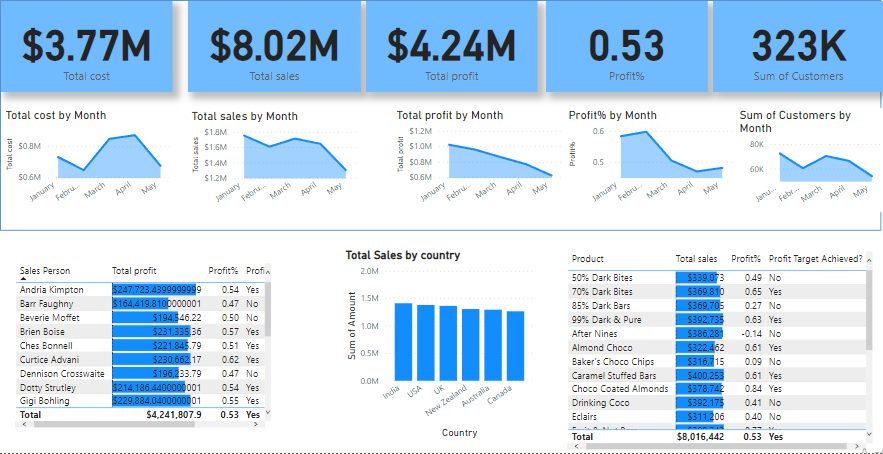

The page's visual inventory and layout, read from the dashboard file:
{"tool":"powerbi","page":{"name":"Page 1","canvas":[1280,720],"ordinal":0},"visuals":[{"type":"columnChart","title":" Total Sales by country","fields":{"Category":["locations.Geo"],"Y":["sales.Amount"]},"box":[499.6,425.3,280.8,279.4],"z":0},{"type":"shape","box":[6.5,67.2,1269.3,332],"z":500,"group":"g1"},{"type":"card","fields":{"Values":["sales.Total cost"]},"box":[8.4,68.9,246.9,131],"z":1000,"group":"g1"},{"type":"tableEx","fields":{"Values":["sales.Sales Person","sales.Total profit","sales.Profit%","sales.Profit Target Achieved?"]},"box":[24.8,441.8,378.5,246.4],"z":1000},{"type":"card","fields":{"Values":["sales.Total sales"]},"box":[277.1,68.9,248.6,131],"z":2000,"group":"g1"},{"type":"tableEx","fields":{"Values":["sales.Product","sales.Total sales","sales.Profit%","sales.Profit Target Achieved?"]},"box":[818.9,425.3,448.7,294.5],"z":2000},{"type":"card","fields":{"Values":["sales.Total profit"]},"box":[534.1,68.9,246.9,131],"z":3000,"group":"g1"},{"type":"textbox","box":[1101,32,167,150],"z":3000},{"type":"qnaVisual","title":"Sales Dashboard Analysis","box":[0,0,414.9,50.4],"z":4000},{"type":"card","fields":{"Values":["sales.Profit%"]},"box":[793.3,69.3,233.3,130.7],"z":4000,"group":"g1"},{"type":"slicer","fields":{"Values":["people.Team"]},"box":[937.3,0,330.3,68.8],"z":5000},{"type":"areaChart","fields":{"Y":["sales.Total cost"],"Category":["sales.Date.Variation.Date Hierarchy.Month"]},"box":[9.6,223,247.7,150],"z":5000,"group":"g1"},{"type":"group","id":"g1","title":"Group 1","box":[6.5,67.2,1273.5,332],"z":6000},{"type":"areaChart","fields":{"Category":["sales.Date.Variation.Date Hierarchy.Month"],"Y":["sales.Total sales"]},"box":[277.3,224,246.7,149.3],"z":6000,"group":"g1"},{"type":"areaChart","fields":{"Category":["sales.Date.Variation.Date Hierarchy.Month"],"Y":["sales.Total profit"]},"box":[572.5,223,247.7,150],"z":7000,"group":"g1"},{"type":"areaChart","fields":{"Category":["sales.Date.Variation.Date Hierarchy.Month"],"Y":["sales.Profit%"]},"box":[820.3,223,246.4,150],"z":10000,"group":"g1"},{"type":"card","fields":{"Values":["sales.Customers"]},"box":[1033,68.9,246.9,131],"z":12000,"group":"g1"},{"type":"areaChart","fields":{"Category":["sales.Date.Variation.Date Hierarchy.Month"],"Y":["sales.Customers"]},"box":[1066,223,214,150],"z":13000,"group":"g1"}]}

Visuals, with their boxes on the page's 1280x720 design canvas (x1, y1, x2, y2). These are canvas units, not pixel positions in the 883x454 screenshot, which may show the page scaled, cropped or inside an application window:
" Total Sales by country" columnChart: l=500, t=425, r=780, b=705
shape: l=6, t=67, r=1276, b=399
card - sales.Total cost: l=8, t=69, r=255, b=200
tableEx - sales.Sales Person x sales.Total profit: l=25, t=442, r=403, b=688
card - sales.Total sales: l=277, t=69, r=526, b=200
tableEx - sales.Product x sales.Total sales: l=819, t=425, r=1268, b=720
card - sales.Total profit: l=534, t=69, r=781, b=200
textbox: l=1101, t=32, r=1268, b=182
"Sales Dashboard Analysis" qnaVisual: l=0, t=0, r=415, b=50
card - sales.Profit%: l=793, t=69, r=1027, b=200
slicer - people.Team: l=937, t=0, r=1268, b=69
areaChart - sales.Total cost x sales.Date.Variation.Date Hierarchy.Month: l=10, t=223, r=257, b=373
"Group 1" group: l=6, t=67, r=1280, b=399
areaChart - sales.Date.Variation.Date Hierarchy.Month x sales.Total sales: l=277, t=224, r=524, b=373
areaChart - sales.Date.Variation.Date Hierarchy.Month x sales.Total profit: l=572, t=223, r=820, b=373
areaChart - sales.Date.Variation.Date Hierarchy.Month x sales.Profit%: l=820, t=223, r=1067, b=373
card - sales.Customers: l=1033, t=69, r=1280, b=200
areaChart - sales.Date.Variation.Date Hierarchy.Month x sales.Customers: l=1066, t=223, r=1280, b=373
